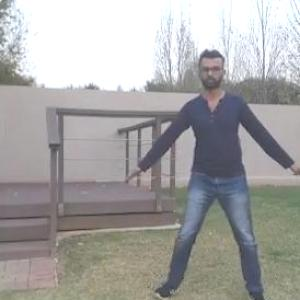land: (138, 46, 300, 299)
